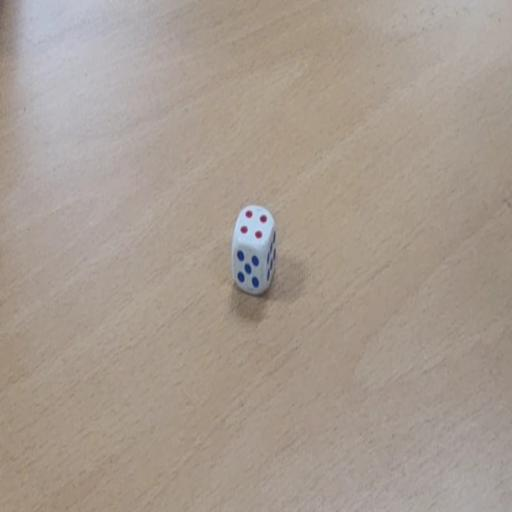dice_4: (230, 205, 278, 299)
